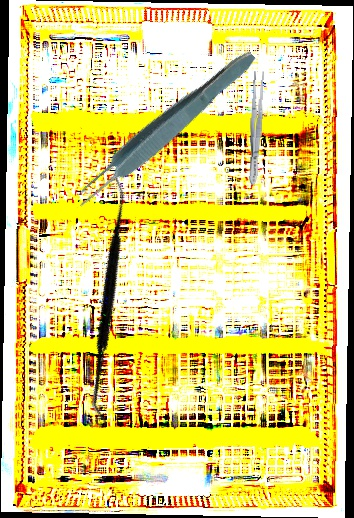Dressing Forceps: (246, 70, 266, 186)
Spatula Surgical: (5, 172, 215, 426)
Tissue Forceps: (67, 42, 262, 214)
